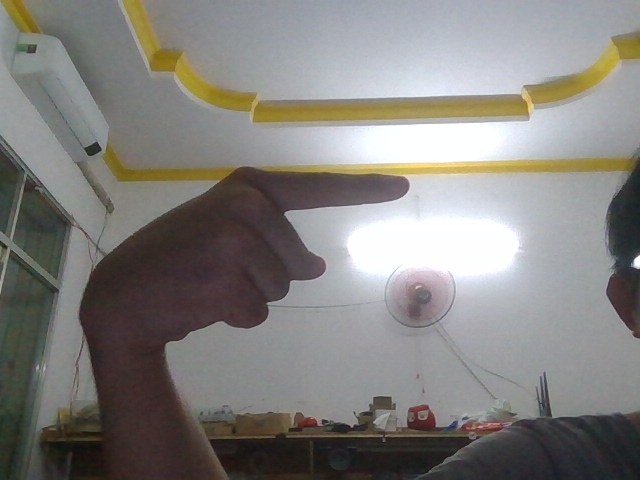turn_left: (65, 152, 424, 350)
